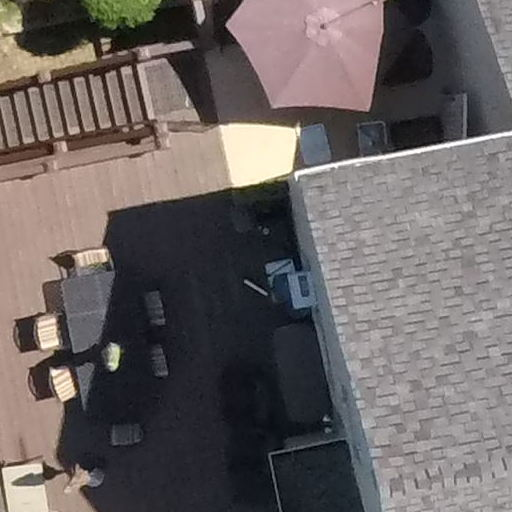container: (294, 120, 339, 167), (355, 119, 397, 158)
porch: (1, 32, 216, 512)
table: (53, 270, 165, 426)
